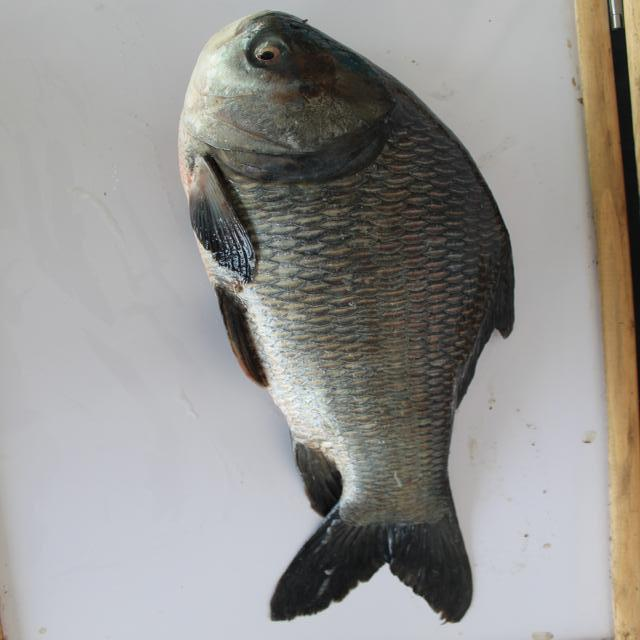Catla: (171, 9, 516, 628)
